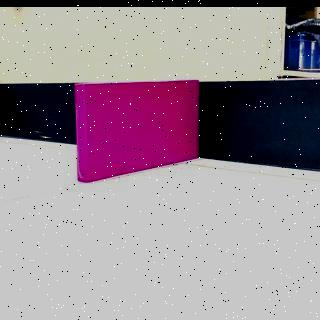xparking: (76, 81, 200, 172)
